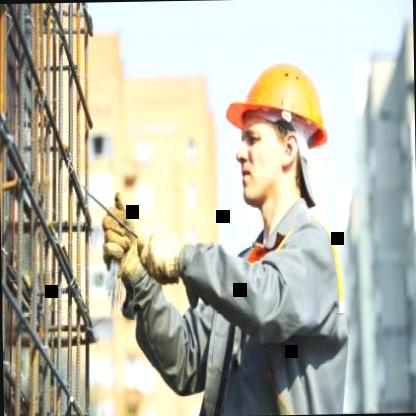helmet: (221, 40, 334, 224)
